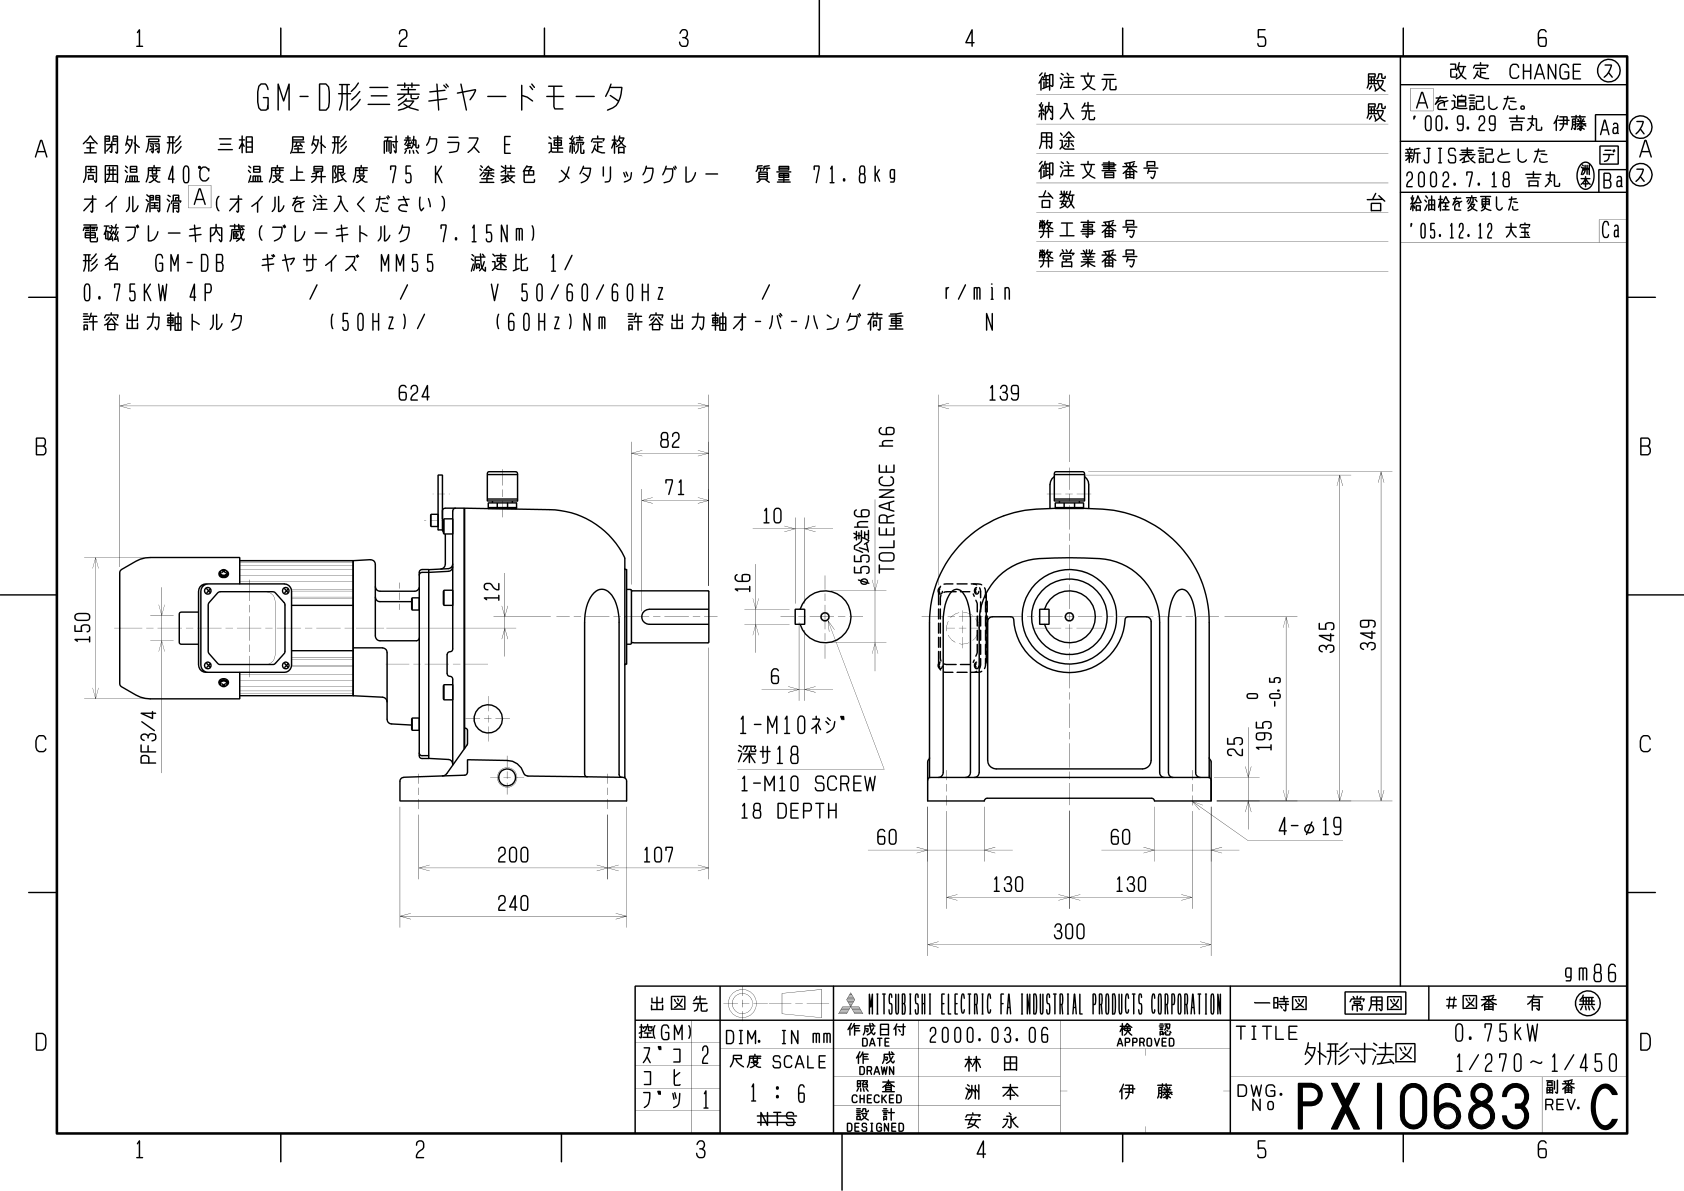GM_D_屋外＿三相_脚: (63, 353, 1397, 978)
